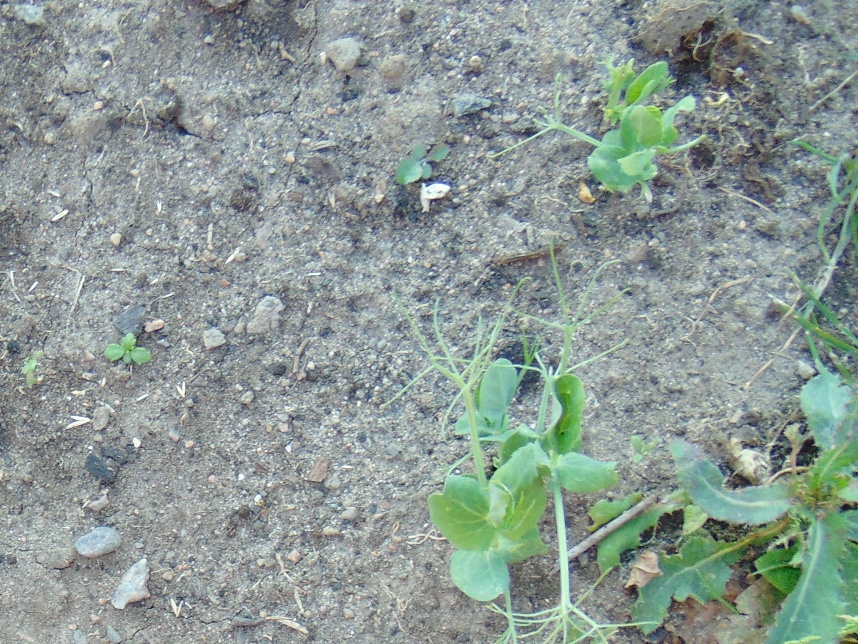crop: (415, 305, 605, 644), (537, 58, 705, 201)
weed: (638, 376, 858, 644), (800, 152, 858, 381), (395, 139, 452, 183), (104, 333, 149, 362)
